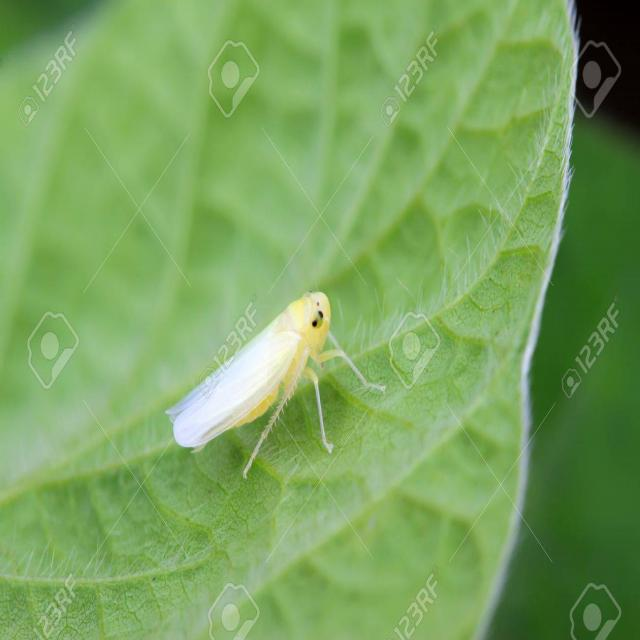Yechan: (154, 276, 377, 464)
